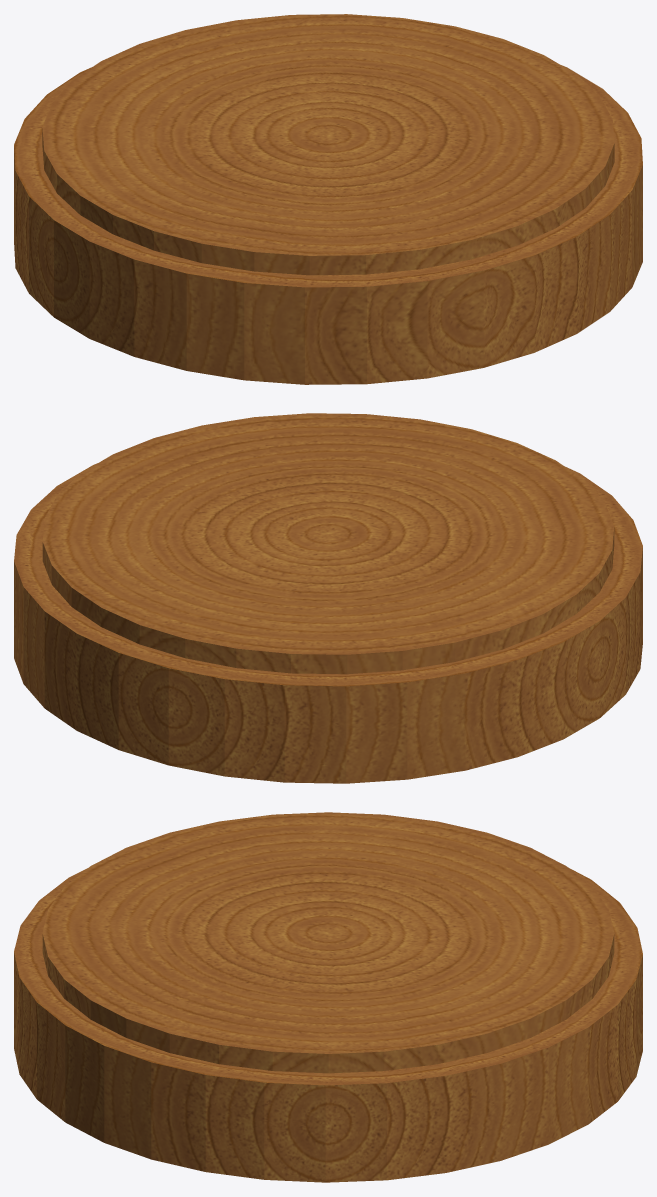
File: win.fbx
3 renders of one model, top to bottom at view 1: azimuth 30°, elevation 25°; view 2: azimuth 150°, elevation 25°; view 3: azimuth 270°, elevation 25°, orthographic.
Visible parts, largest first — view 1: polySurface1, polySurface2; view 2: polySurface1, polySurface2; view 3: polySurface1, polySurface2.
Boxes of the visible parts, box(x1,y1,x2,y2) form: polySurface1: box(42, 14, 614, 275); polySurface2: box(14, 65, 642, 384); polySurface1: box(42, 413, 614, 674); polySurface2: box(14, 463, 642, 783); polySurface1: box(42, 812, 614, 1073); polySurface2: box(14, 867, 642, 1182).
Size of the model in its own units: 440 by 90 by 440.
